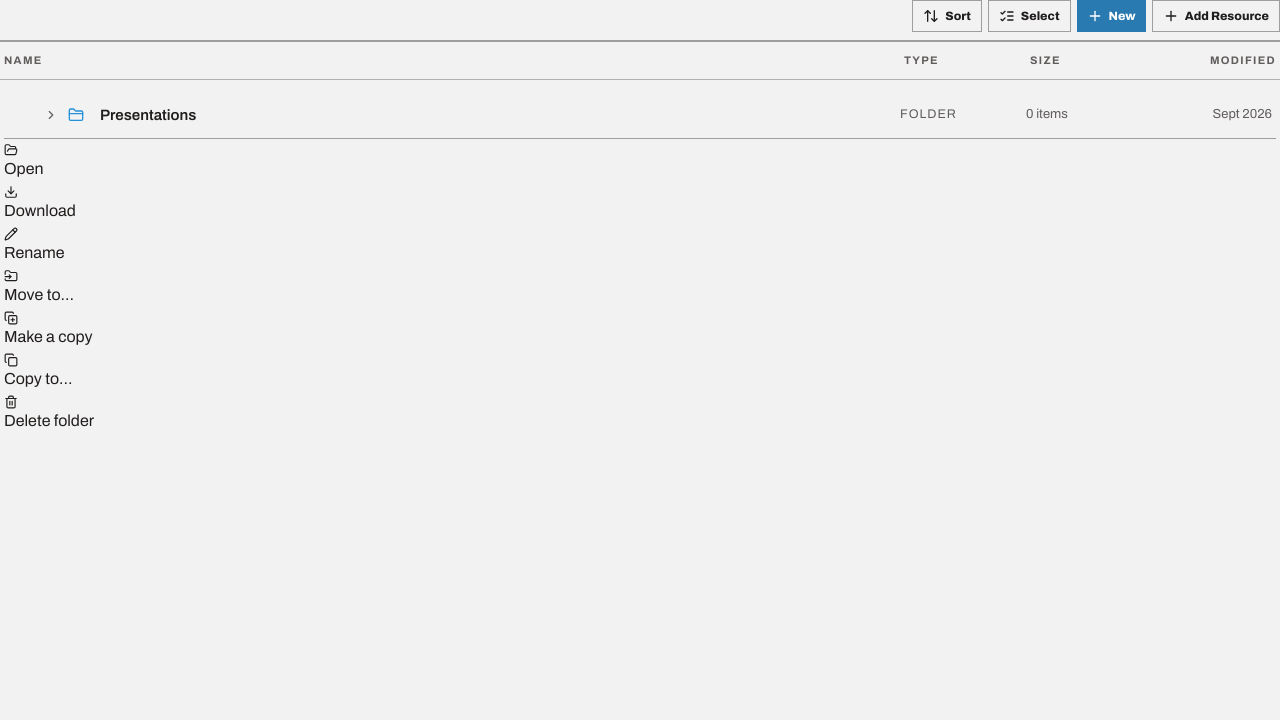
Scenario: DriveBrowser › offers every category as a destination (Move)
A modified click selects rather than opening, which brings up the bar.
Click the text "Presentations": x=148, y=114 [100,106,196,122]
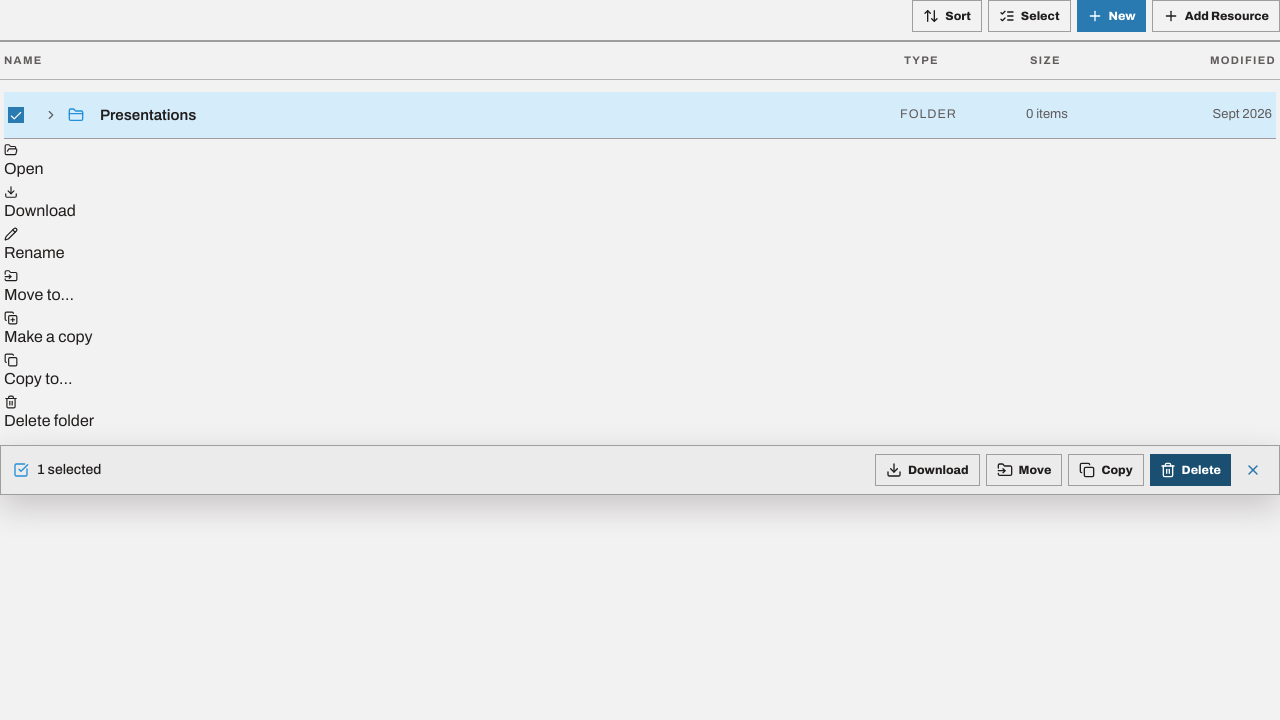
Click the button "Move": x=1024, y=470 [986,454,1062,486]
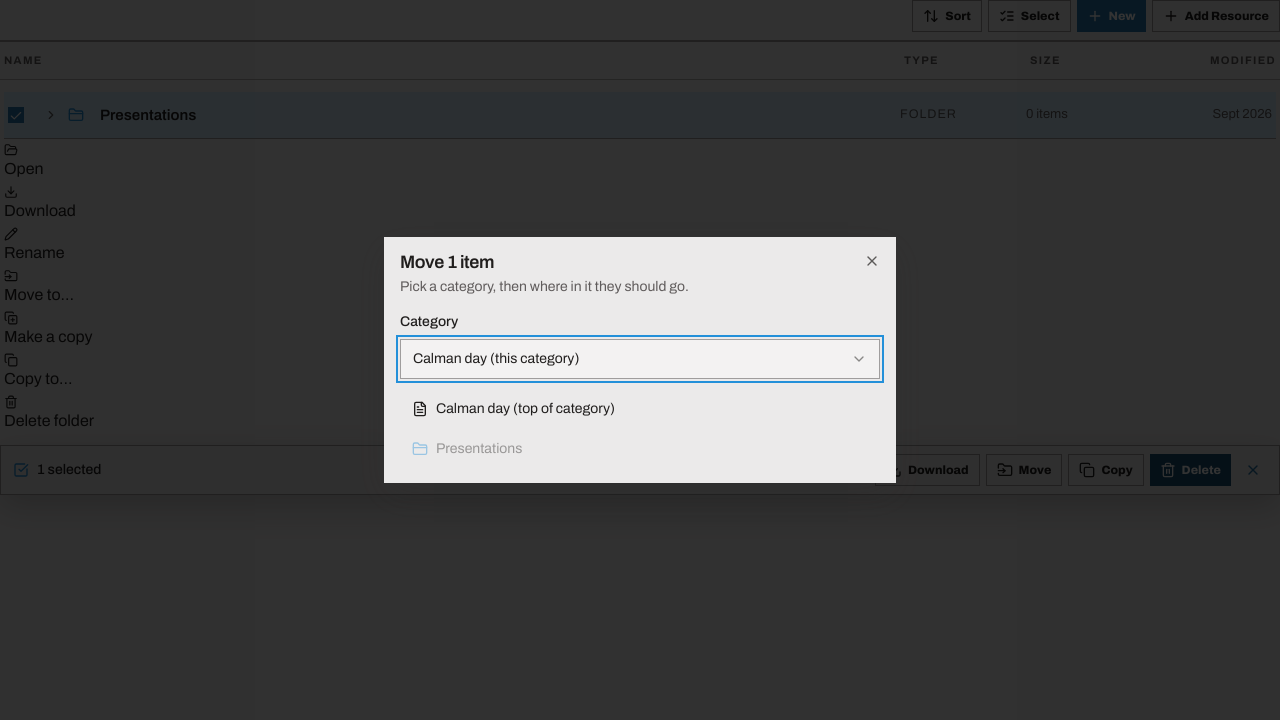
Expected: the dialog does not show "Past papers", [384,237,896,483]
Expected: the dropdown labelled "category" shows "Calman day", [400,339,880,379]
Expected: the dialog shows "Calman day (top of category)", [384,237,896,483]
